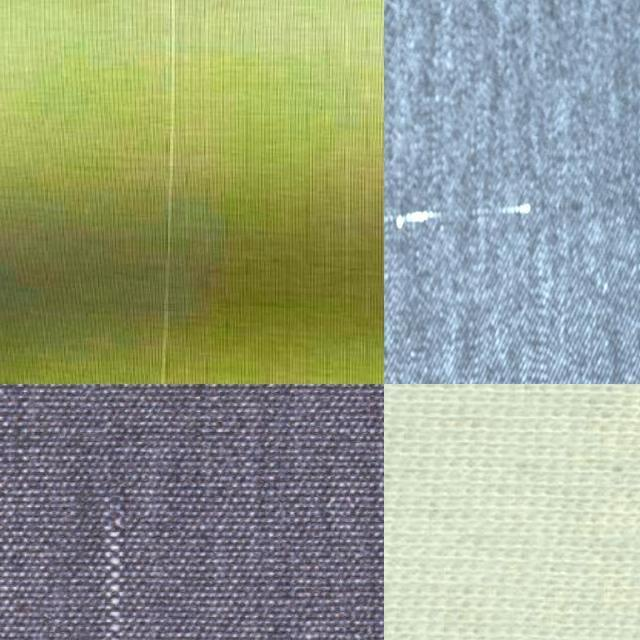stains: (101, 0, 229, 384), (36, 485, 210, 640), (384, 155, 554, 291)
